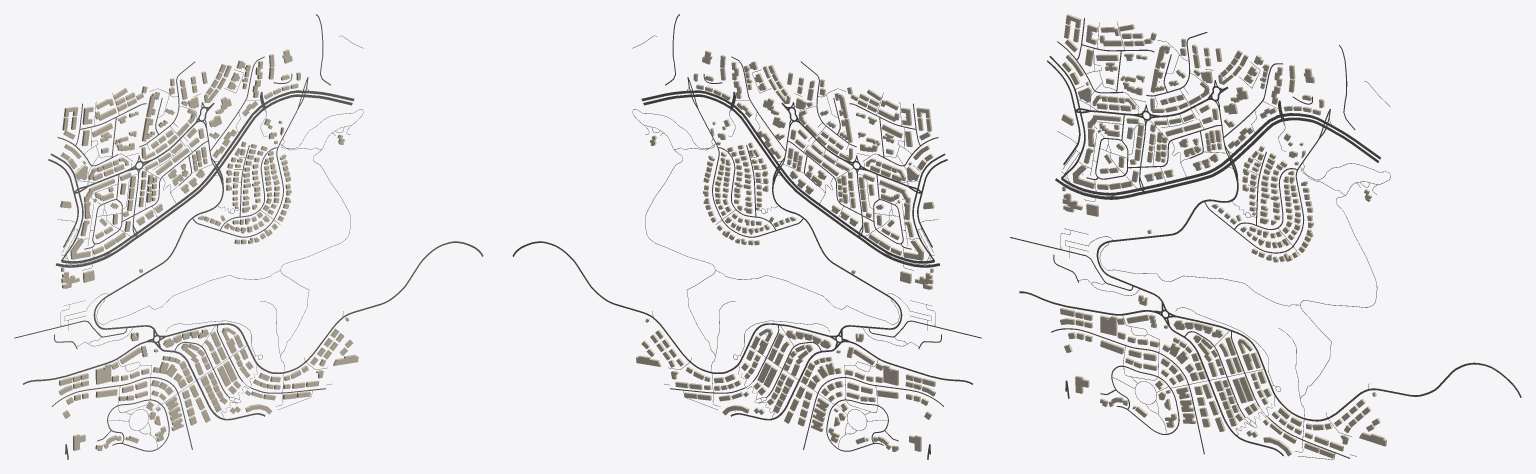
The model's file is historic-palestine-10_24_3524_3182.glb.
3 renders of one model, left to right at view 1: azimuth 30°, elevation 25°; view 2: azimuth 150°, elevation 25°; view 3: azimuth 330°, elevation 25°, orthographic. The views are drawn at different scales.
Parts seen in each view (by area): view 1: Road משה רחמילביץ', Road גל.004; view 2: Road משה רחמילביץ', Road גל.004; view 3: Road משה רחמילביץ', Road גל.004.
Boxes of the visible parts, x1,y1,x2,y2 form: Road משה רחמילביץ': [166, 241, 483, 373]; Road גל.004: [93, 185, 223, 329]; Road משה רחמילביץ': [512, 241, 829, 373]; Road גל.004: [772, 185, 902, 329]; Road משה רחמילביץ': [1176, 315, 1521, 421]; Road גל.004: [1096, 182, 1238, 301].
Size of the model in its own units: 1559 by 1288 by 9.09.
